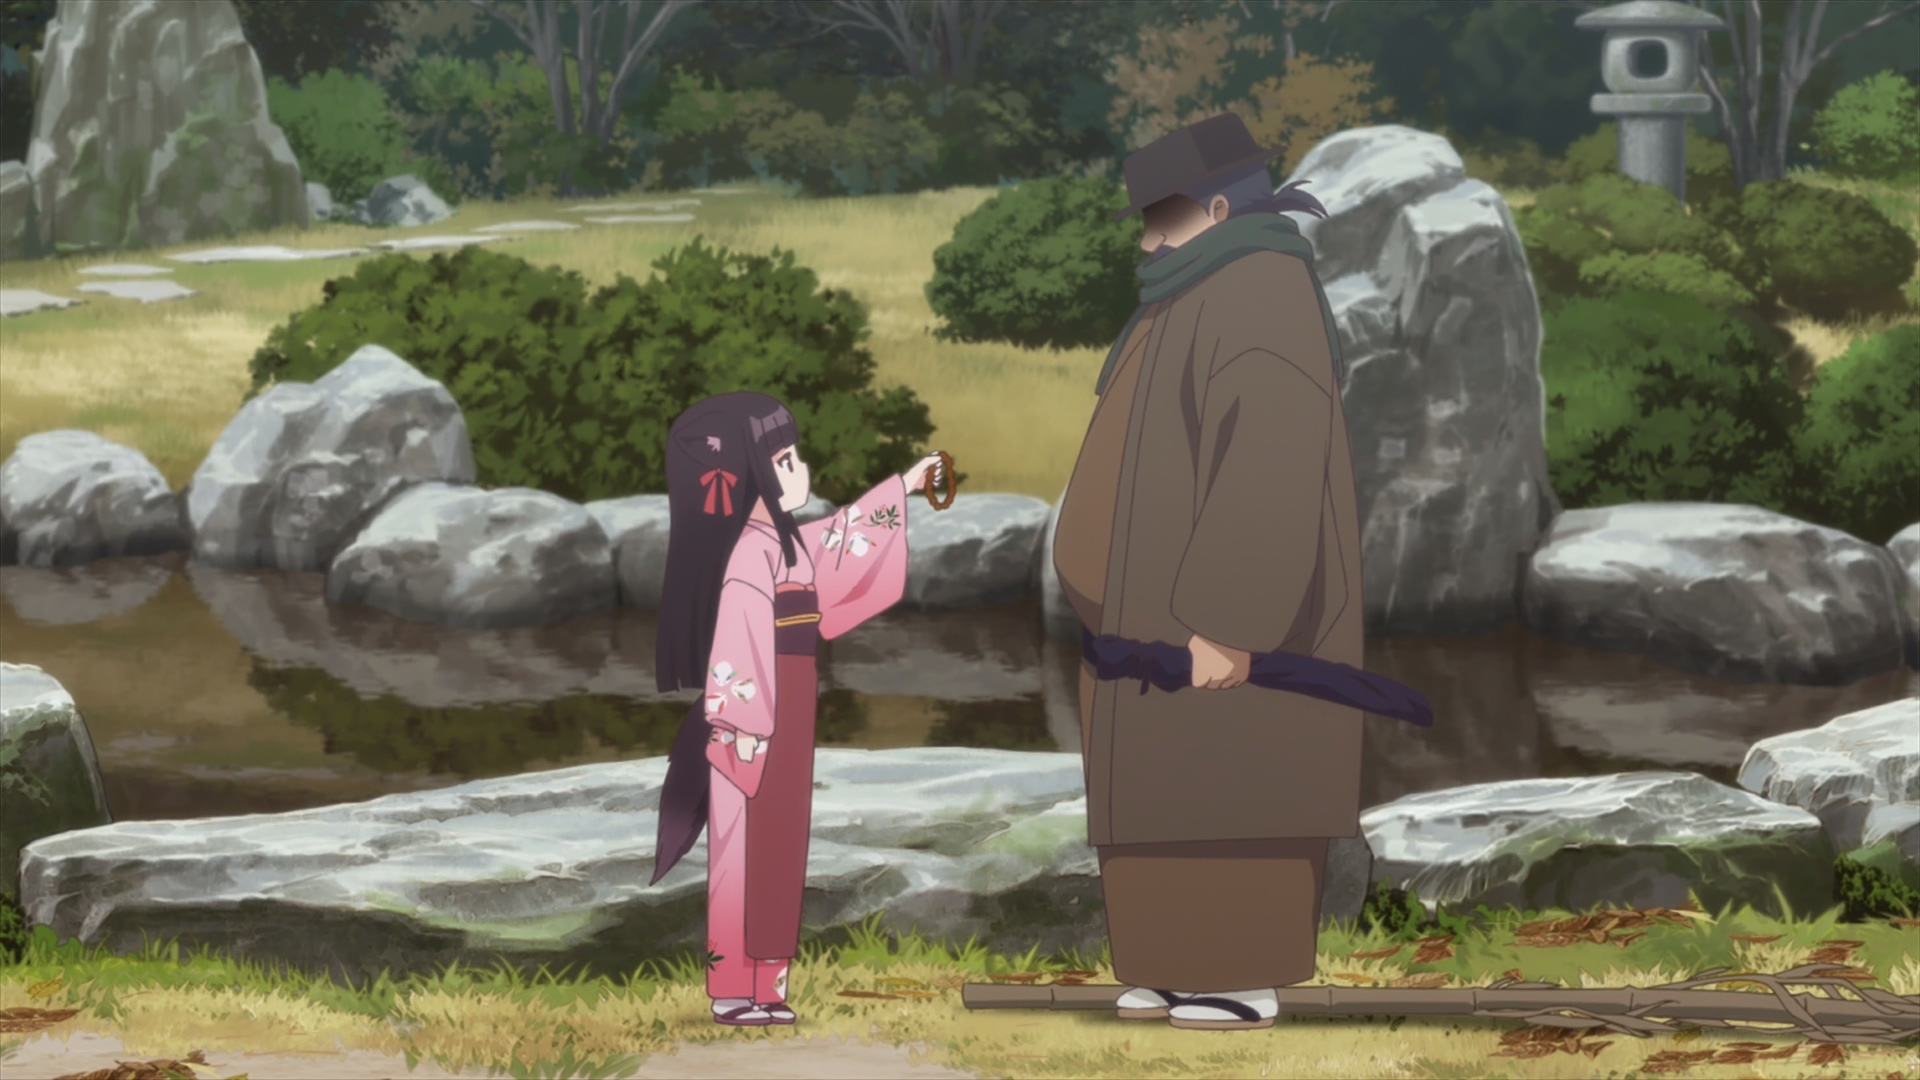其他: (1054, 117, 1364, 1033)
樱: (649, 393, 942, 1029)
